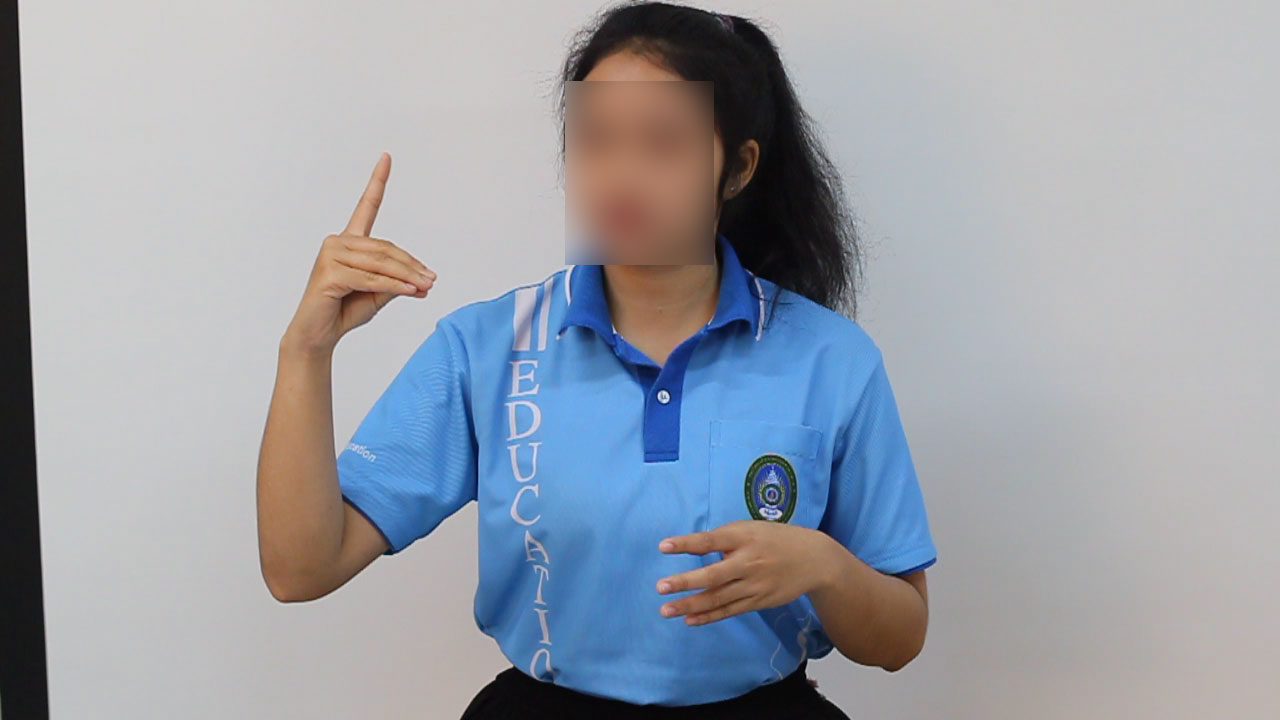dor: (274, 140, 440, 353)
